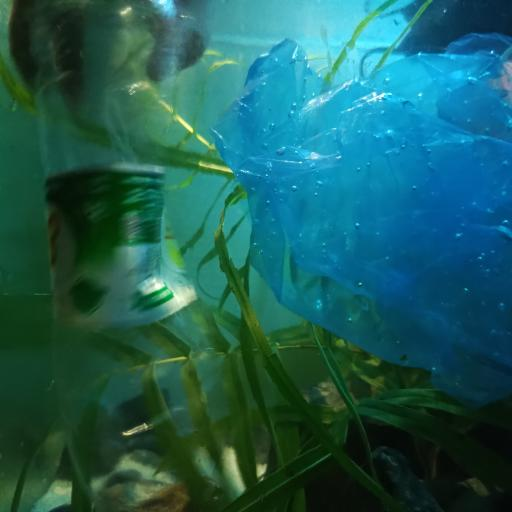plastic_bag: (217, 40, 512, 406)
plastic_bottle: (28, 0, 216, 512)
